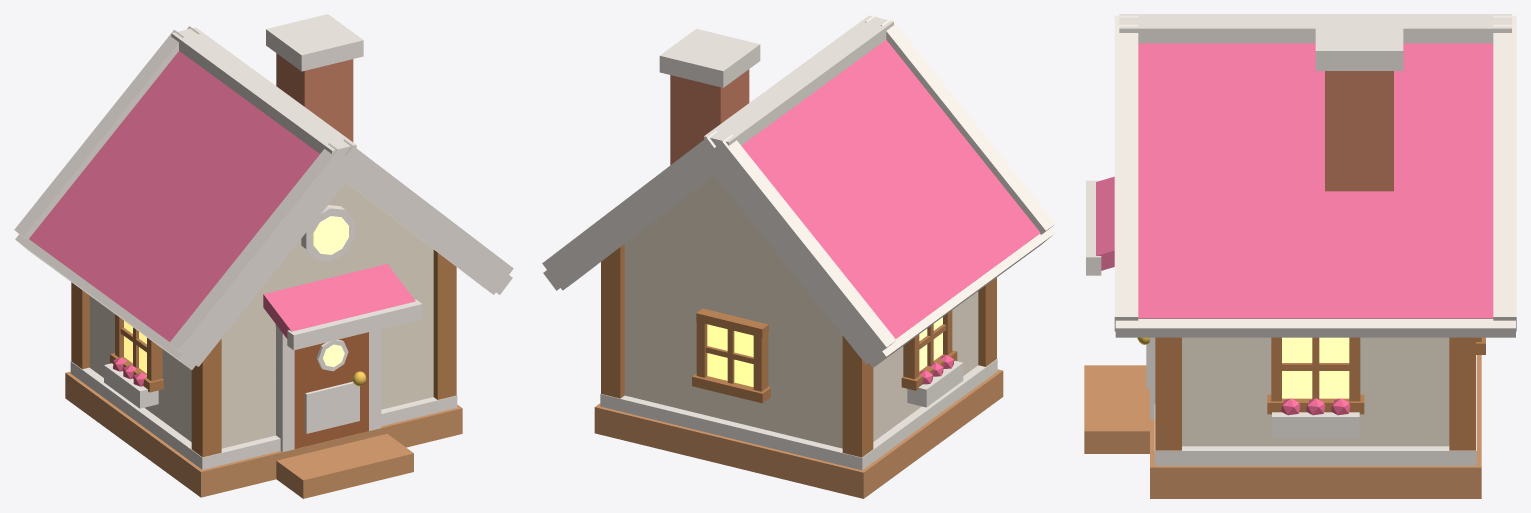
Rendered from starter_house.glb.
The picture shows the model from 3 angles, left to right: view 1: azimuth 30°, elevation 25°; view 2: azimuth 150°, elevation 25°; view 3: azimuth 270°, elevation 25°; orthographic projection. The views are drawn at different scales.
Parts seen in each view (by area): view 1: starter_house, FrontDoor; view 2: starter_house; view 3: starter_house.
Boxes of the visible parts, left/top/right/bottom form: starter_house: left=14, top=14, right=513, bottom=498; FrontDoor: left=294, top=332, right=368, bottom=448; starter_house: left=542, top=14, right=1055, bottom=498; starter_house: left=1084, top=14, right=1516, bottom=498.
Bounding box in the file's own units: 1.51 × 1.51 × 1.38.
